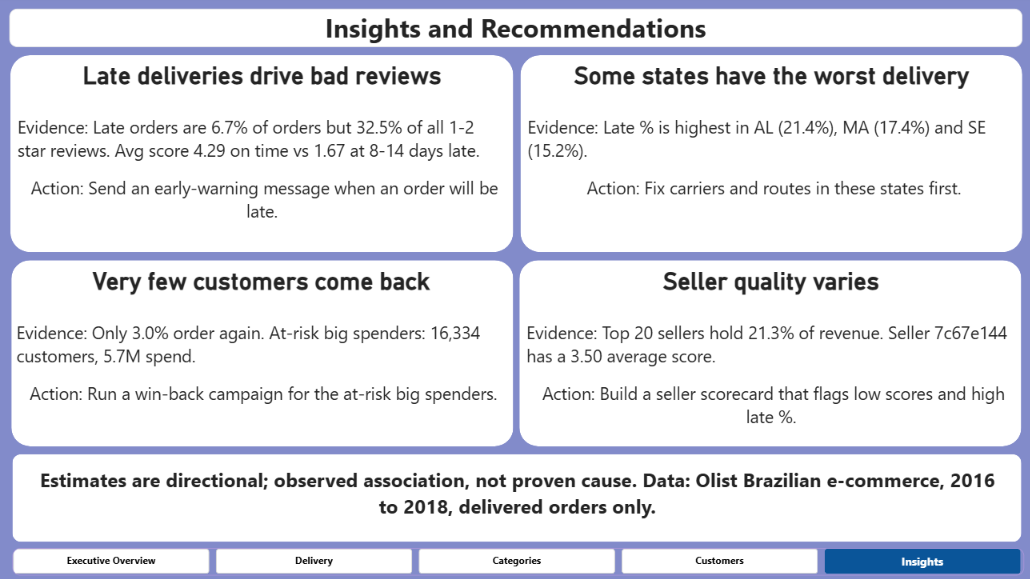

The dashboard page shown, as its layout file describes it:
{"tool":"powerbi","page":{"name":"Insights","canvas":[1280,720],"ordinal":4},"visuals":[{"type":"textbox","box":[12.5,13.5,1253.9,47.2],"z":0},{"type":"shape","box":[13.5,70.8,622.5,243.8],"z":1000},{"type":"shape","box":[14.5,324.7,621.3,230.3],"z":2000},{"type":"shape","box":[643.7,324.7,621.3,230.3],"z":3000},{"type":"shape","box":[644.9,70.8,621.3,243.8],"z":4000},{"type":"textbox","title":"Late deliveries drive bad reviews\n","box":[22.5,78.7,605.6,225.8],"z":5000},{"type":"textbox","title":"Seller quality varies","box":[652.7,333.7,605.6,210.1],"z":6000},{"type":"textbox","title":"Very few customers come back","box":[21.2,333.7,605.6,210.1],"z":7000},{"type":"textbox","title":"Some states have the worst delivery","box":[653.9,78.7,604.5,225.8],"z":8000},{"type":"shape","box":[16.2,565,1248.8,108.8],"z":9000},{"type":"textbox","title":"Very few customers come back","box":[36.2,580,1210.1,80.9],"z":10000},{"type":"pageNavigator","box":[16.2,681.2,1252.5,33.8],"z":10001}]}

Visuals, with their boxes in screenshot pixels (x1, y1, x2, y2), scaled from the page's 1280x720 canvas onto the 1030x579 screenshot:
textbox: 10, 11, 1019, 49
shape: 11, 57, 512, 253
shape: 12, 261, 512, 446
shape: 518, 261, 1018, 446
shape: 519, 57, 1019, 253
"Late deliveries drive bad reviews
" textbox: 18, 63, 505, 245
"Seller quality varies" textbox: 525, 268, 1013, 437
"Very few customers come back" textbox: 17, 268, 504, 437
"Some states have the worst delivery" textbox: 526, 63, 1013, 245
shape: 13, 454, 1018, 542
"Very few customers come back" textbox: 29, 466, 1003, 531
pageNavigator: 13, 548, 1021, 575
